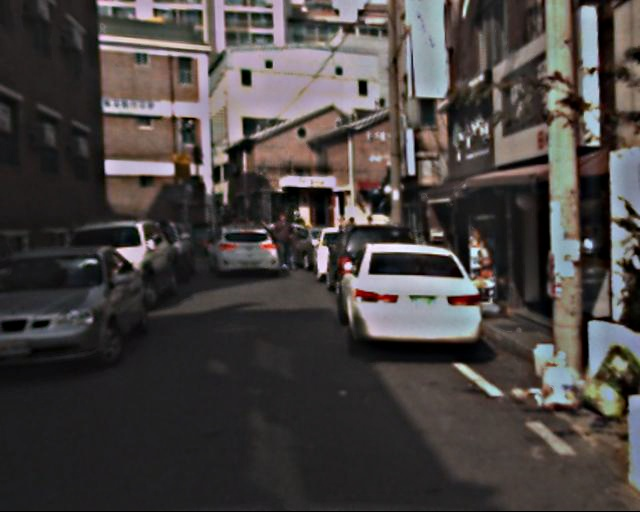person: (271, 212, 296, 272)
